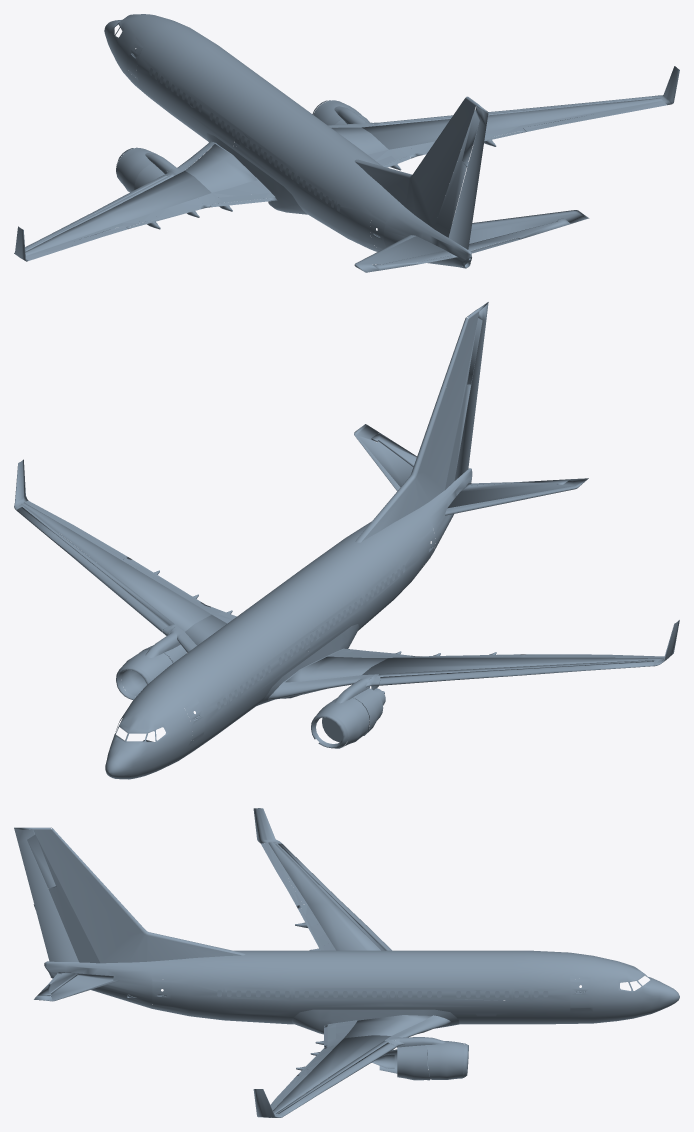
The picture shows the model from 3 angles, top to bottom: view 1: azimuth 30°, elevation 25°; view 2: azimuth 150°, elevation 25°; view 3: azimuth 270°, elevation 25°; orthographic projection. The views are drawn at different scales.
Bounding box in the file's own units: 34.85 × 12.08 × 34.93.
